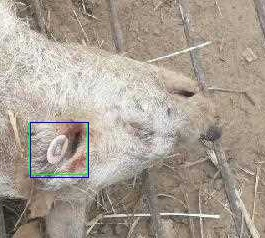text: (29, 122, 87, 174)
